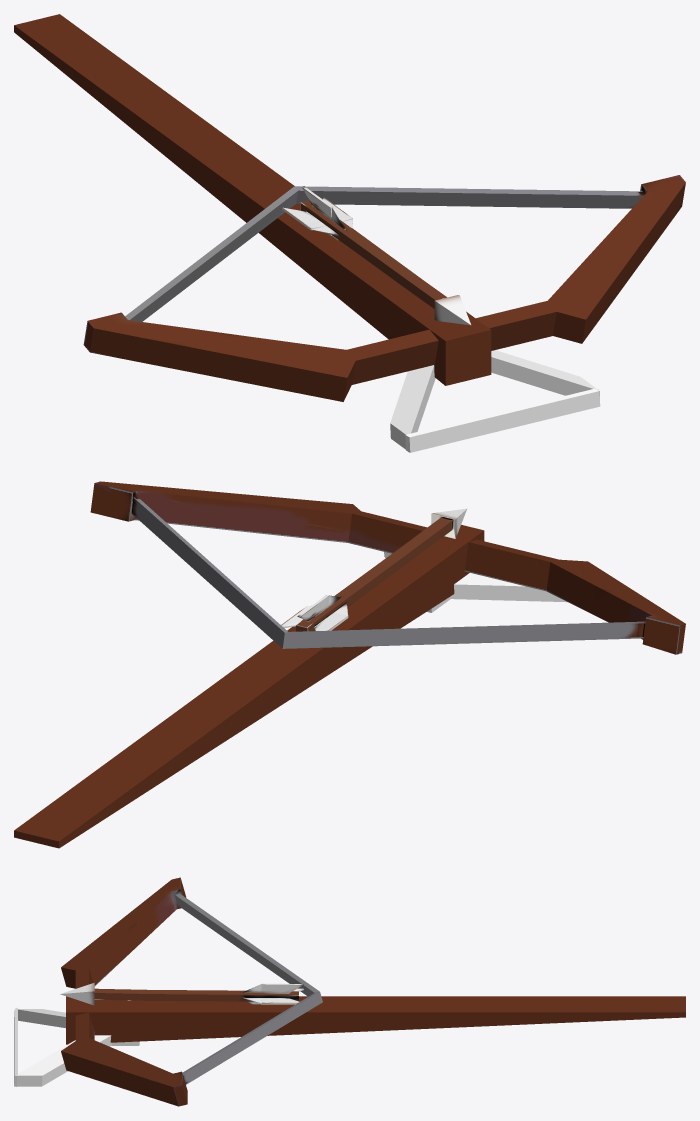
The model's file is CrossBowArrow.dae.
The picture shows the model from 3 angles, top to bottom: view 1: azimuth 30°, elevation 25°; view 2: azimuth 150°, elevation 25°; view 3: azimuth 270°, elevation 25°; orthographic projection. The views are drawn at different scales.
Parts seen in each view (by area): view 1: Cube.002, Cube, Cube.004, Cube.001, Cube.003; view 2: Cube.002, Cube, Cube.001, Cube.004; view 3: Cube, Cube.002, Cube.001, Cube.003, Cube.004.
Boxes of the visible parts, <box> form: Cube.002: <box>83,175,685,401</box>; Cube: <box>14,14,491,385</box>; Cube.004: <box>390,365,600,452</box>; Cube.001: <box>282,186,470,325</box>; Cube.003: <box>491,350,599,395</box>; Cube.002: <box>90,481,685,654</box>; Cube: <box>14,524,484,848</box>; Cube.001: <box>281,508,466,631</box>; Cube.004: <box>427,573,567,612</box>; Cube: <box>66,996,685,1044</box>; Cube.002: <box>61,877,322,1106</box>; Cube.001: <box>60,982,303,1005</box>; Cube.003: <box>14,1035,139,1086</box>; Cube.004: <box>14,1007,65,1086</box>.
Size of the model in its own units: 1.59 by 2.17 by 0.2515.
5 materials, 5 textured.
